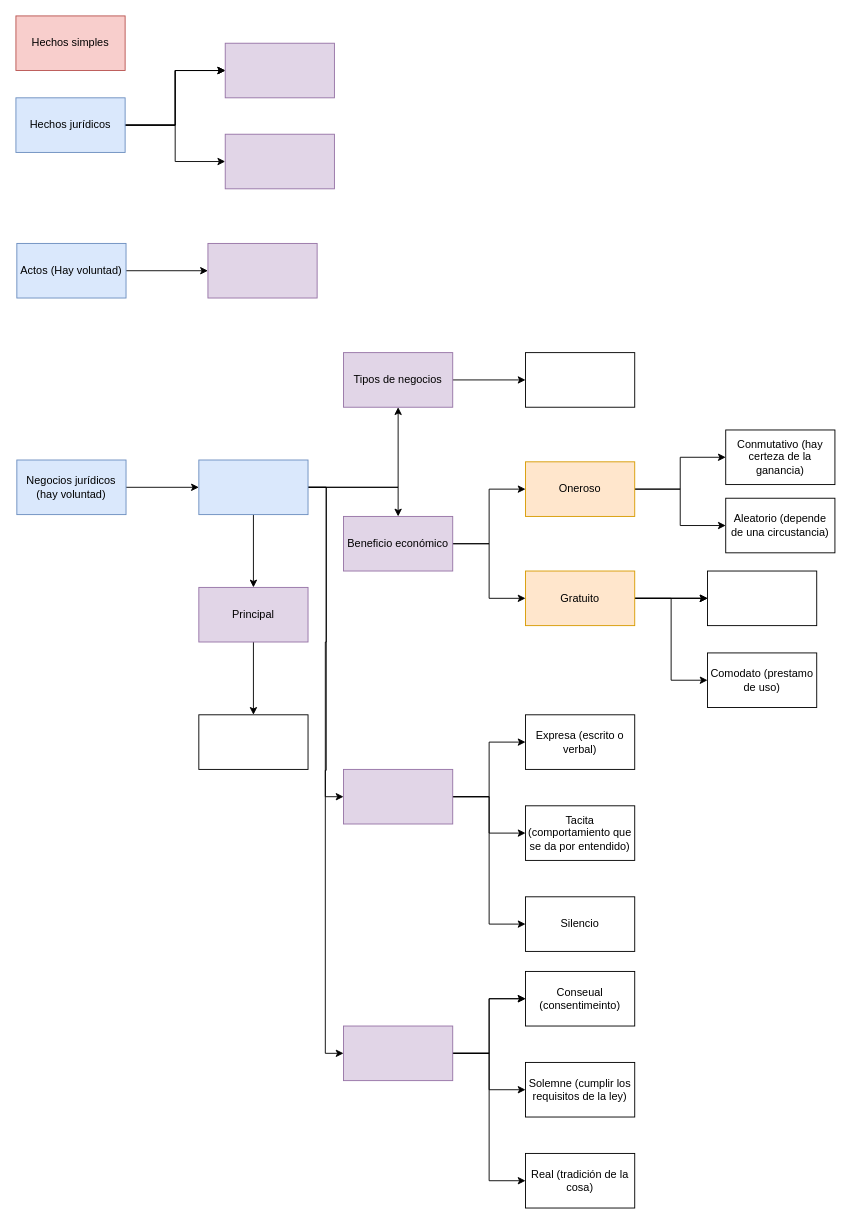
Some shapes in this 851 by 1224 pixel diagram are drawn without their labels. Each missing label, with the box of its shape:
Accesorio: (198, 714, 308, 769)
Crear, modificar y extinguir obligadcioes o derechos: (198, 459, 308, 515)
Donación: (707, 570, 817, 626)
Manifestar voluntad: (343, 768, 453, 824)
Natturaleza: (224, 42, 334, 98)
No se modifica los efectos jurídicos: (207, 243, 317, 298)
Perfeccionamiento: (343, 1025, 453, 1081)
Personal: (224, 133, 334, 189)
Unilateral - Bilateral y Plurilateral: (525, 352, 635, 407)
